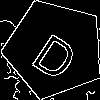D: (29, 24, 86, 83)
